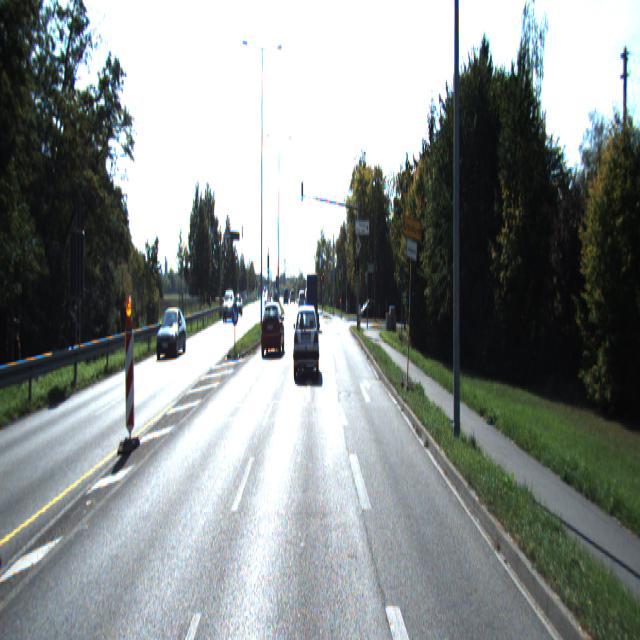Car: (294, 310, 320, 380), (155, 309, 187, 360), (260, 303, 286, 359), (306, 273, 318, 329), (222, 291, 237, 322)
